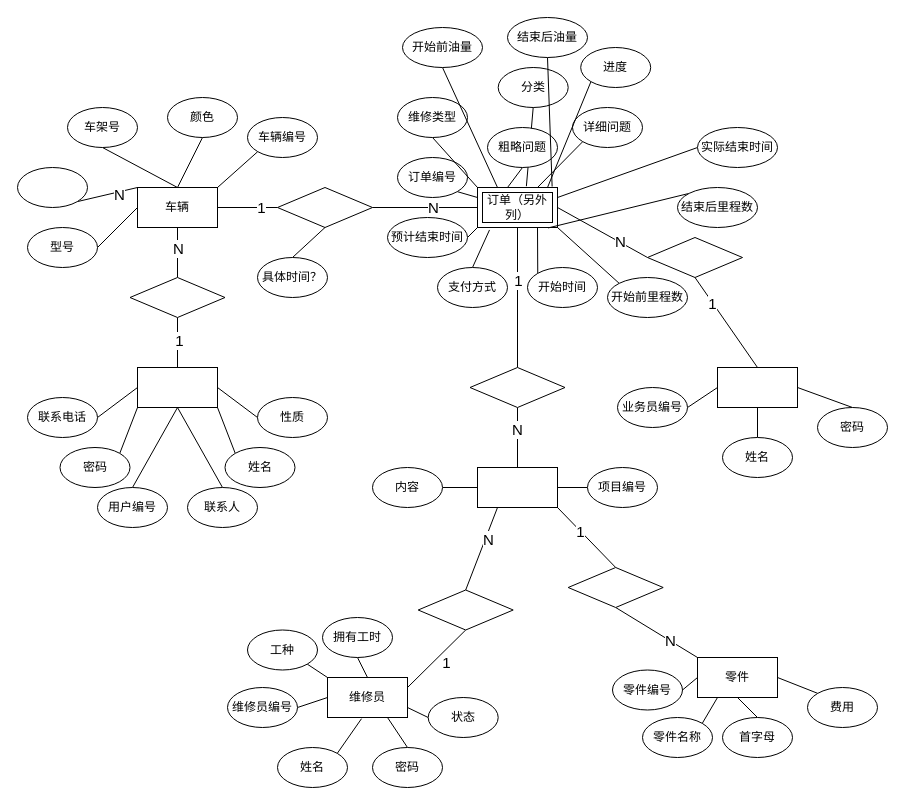
This 905x805 diagram has some shape labels left out. The centre of each missing label's shape, as x and y in pixels:
"业务员" goes at (757,387).
"包括" goes at (517,387).
"完成" goes at (465,609).
"拥有" goes at (177,297).
"生成" goes at (324,207).
"用户" goes at (177,387).
"管理" goes at (694,257).
"车牌号" goes at (52,187).
"需要" goes at (615,587).
"项目" goes at (517,487).
